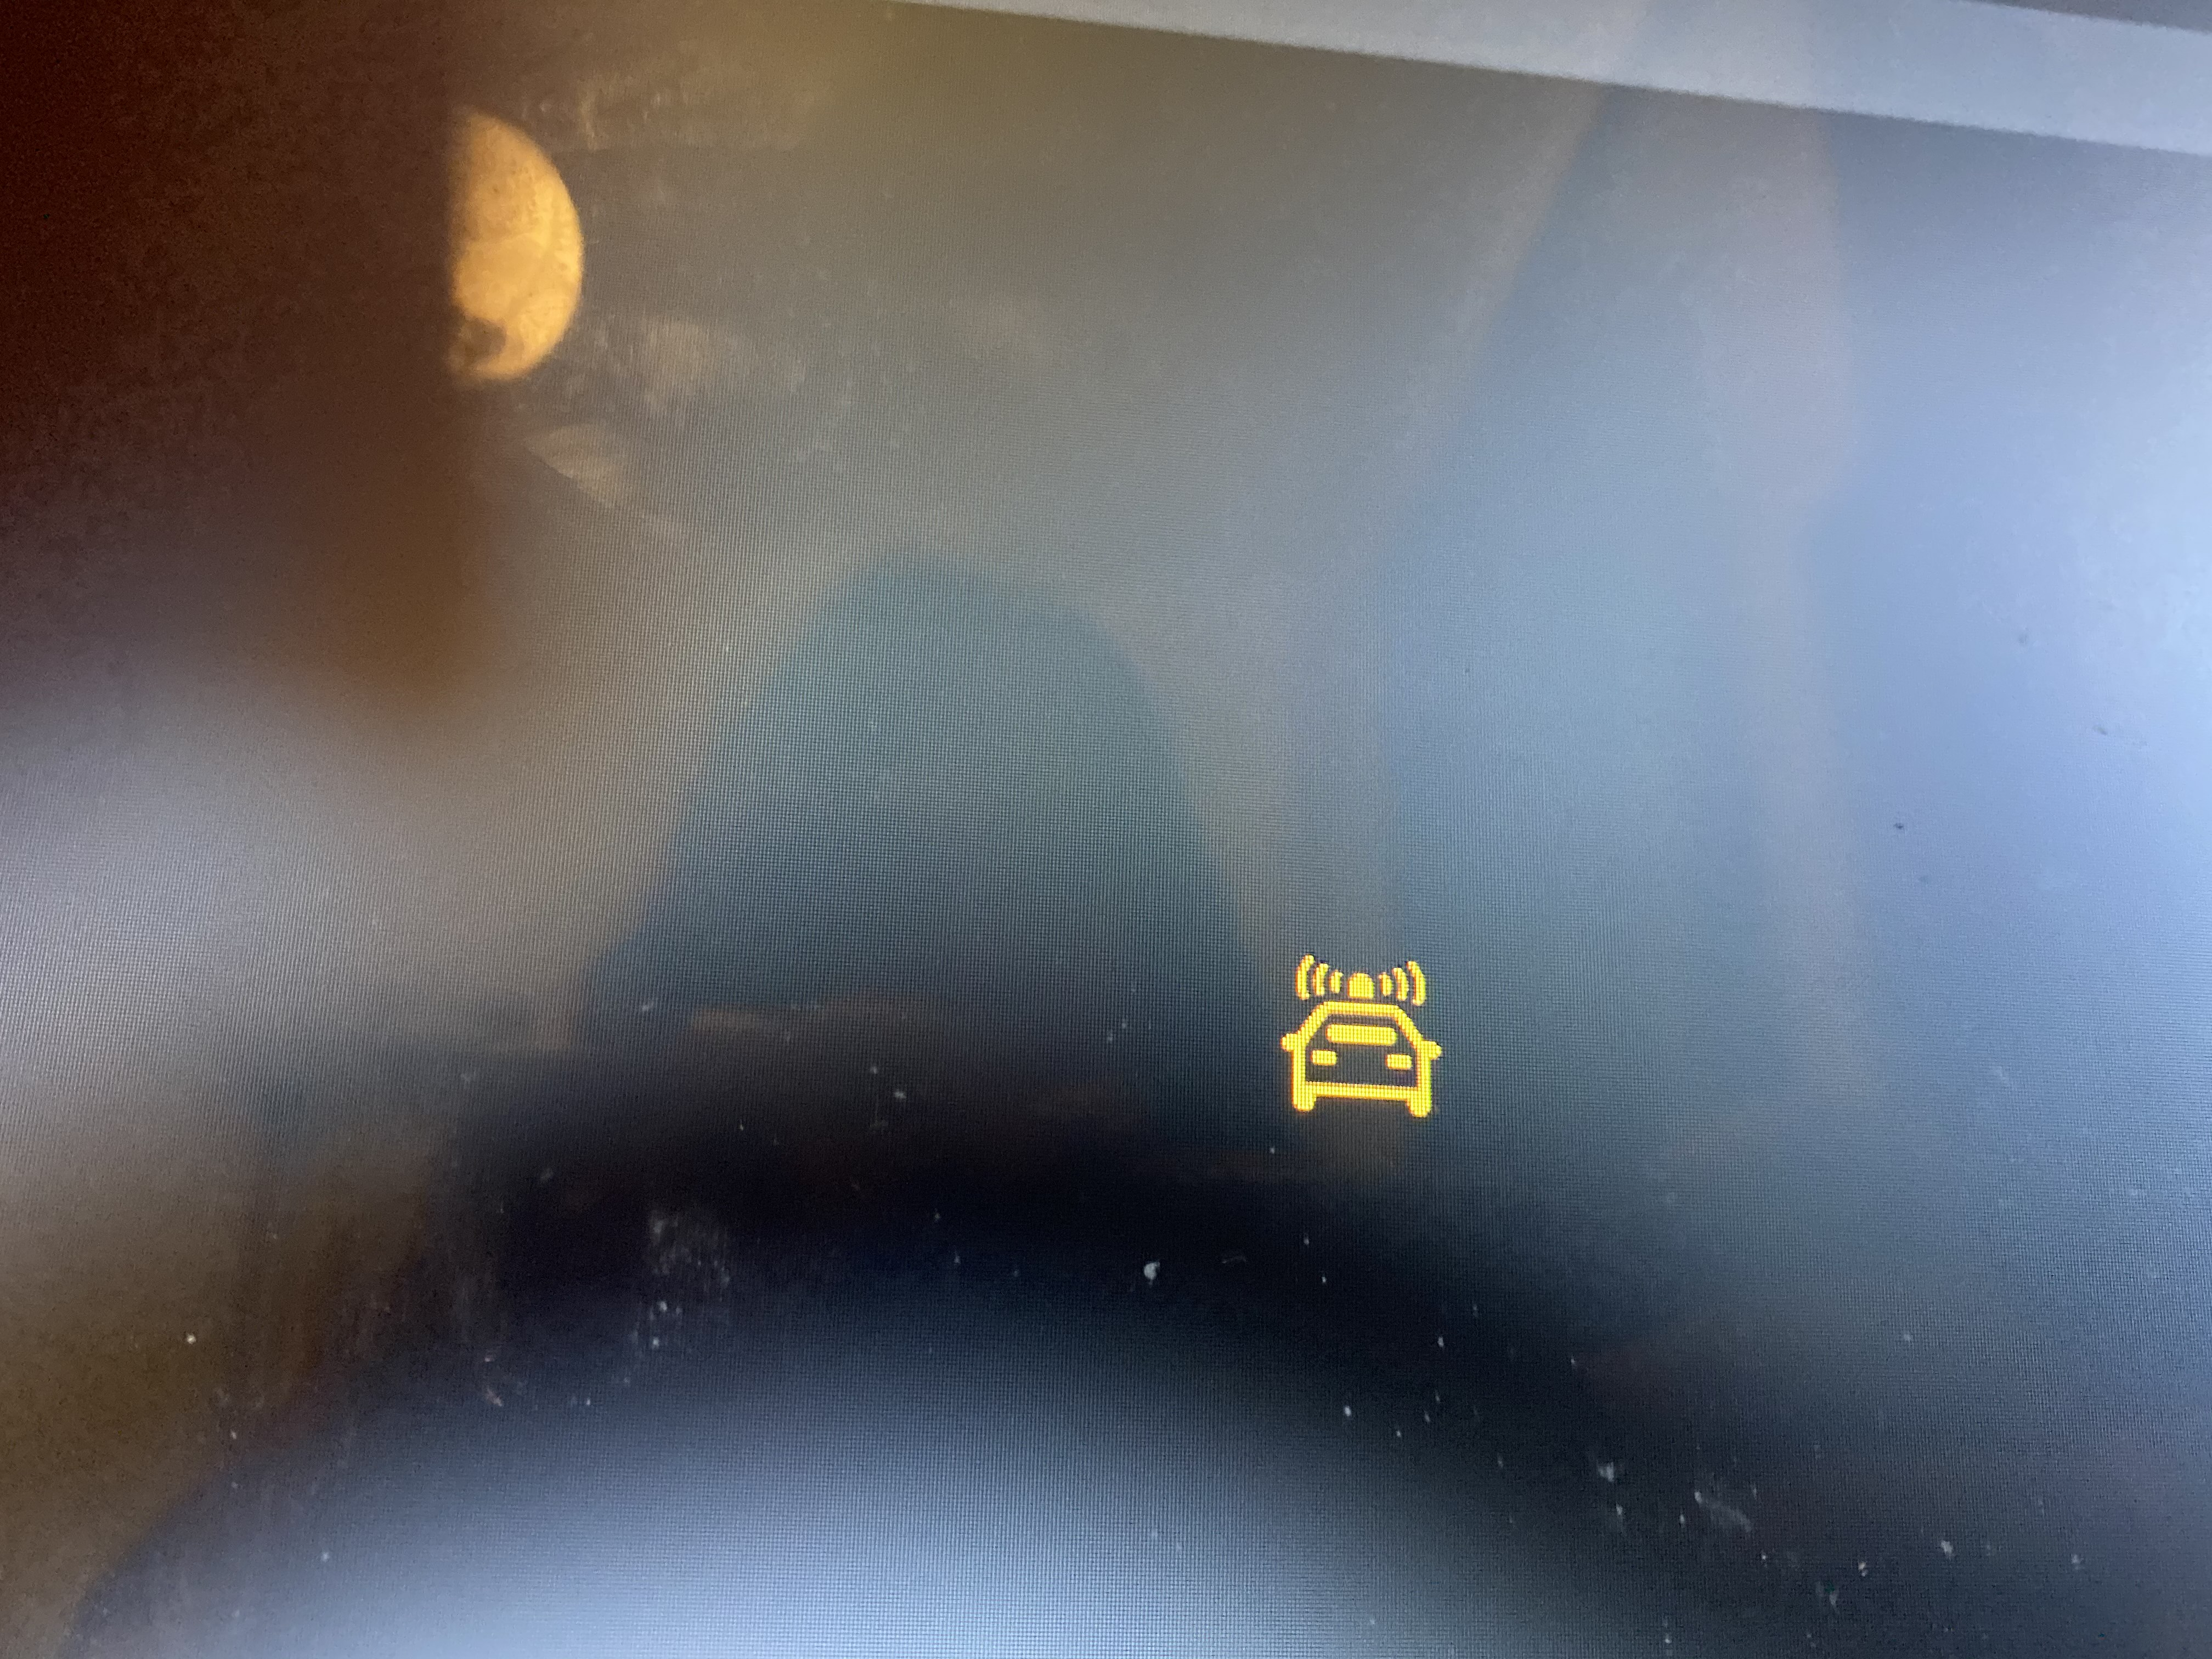SEV_INF: (1228, 929, 1510, 1175)
